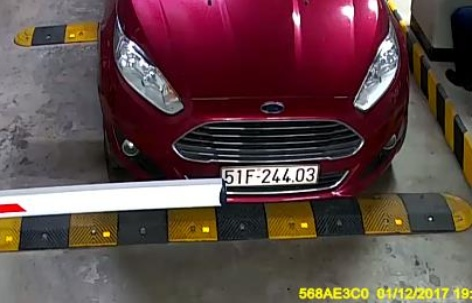plate: (220, 162, 322, 189)
